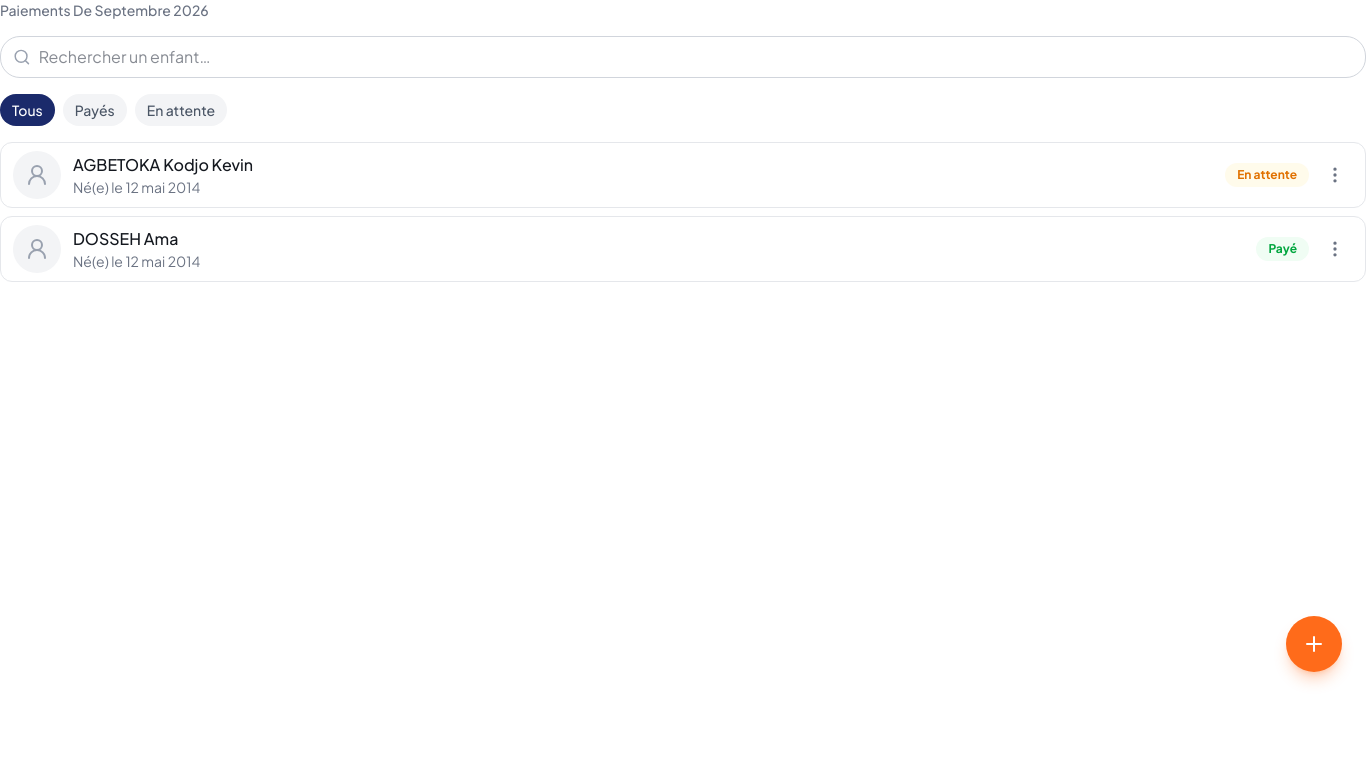
PlayerList › ouvre le panneau de statut au clic sur le tag et affiche l'échéance
Click the button "En attente" at [1267, 175], box [1225,163,1309,187]
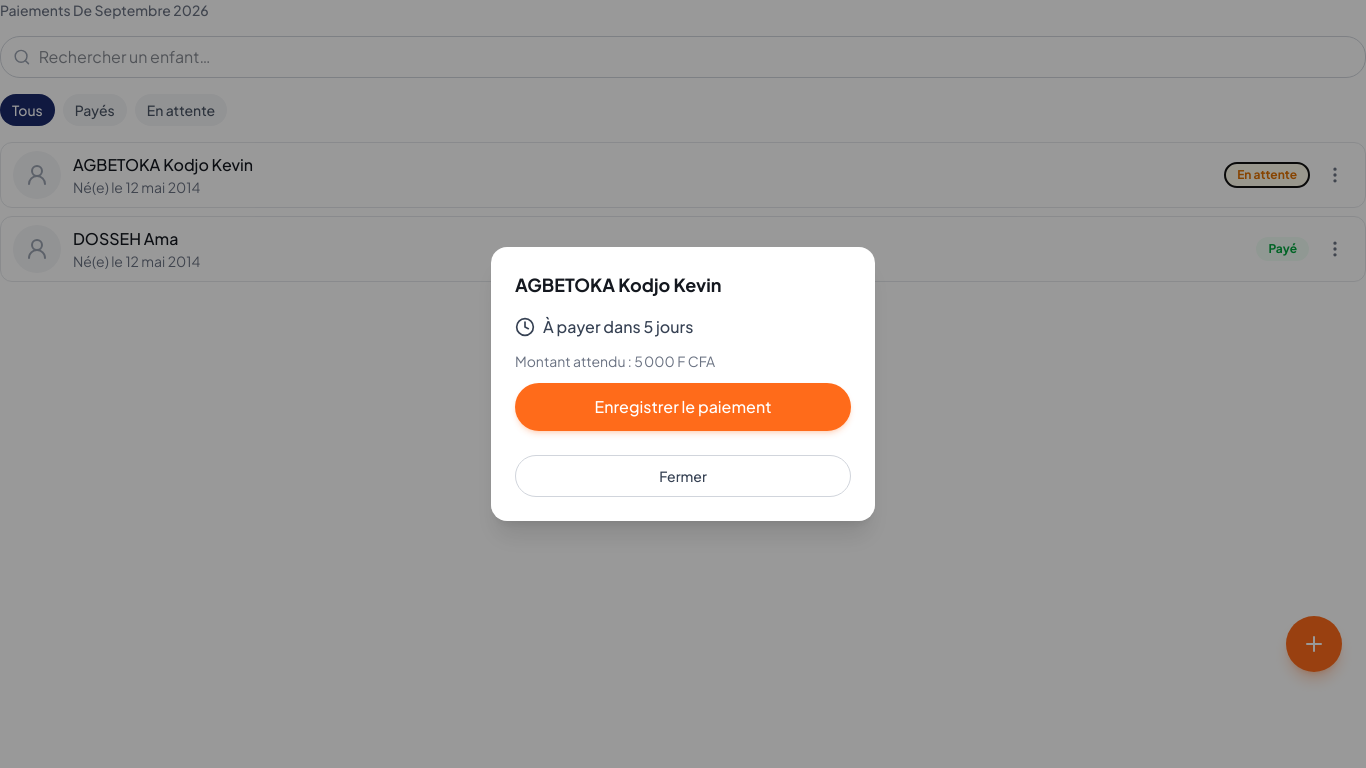
Result: the text "À payer dans 5 jours" is shown at [543,315,693,339]
Result: the button "Enregistrer le paiement" is shown at [515,383,851,431]
